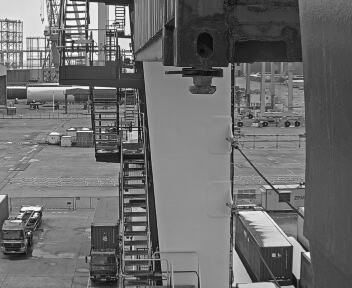twist_lock_1: (175, 59, 229, 104)
